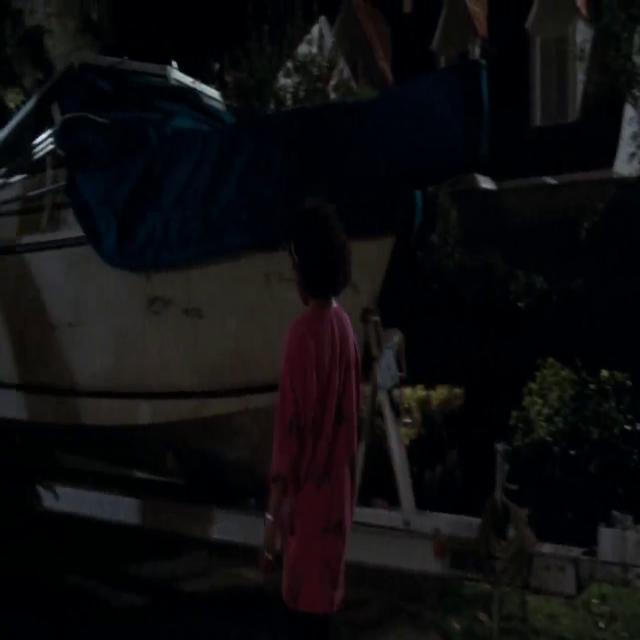Boat: (0, 19, 464, 399)
People: (275, 196, 371, 640)
